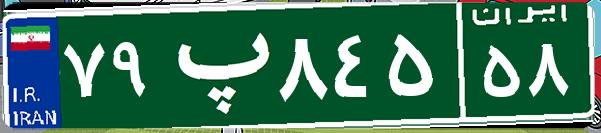4: (330, 28, 385, 110)
5: (385, 28, 445, 110), (475, 38, 525, 113)
7: (57, 26, 110, 107)
8: (273, 28, 330, 110), (525, 38, 570, 115)
9: (110, 28, 158, 105)
پ: (158, 15, 273, 115)
